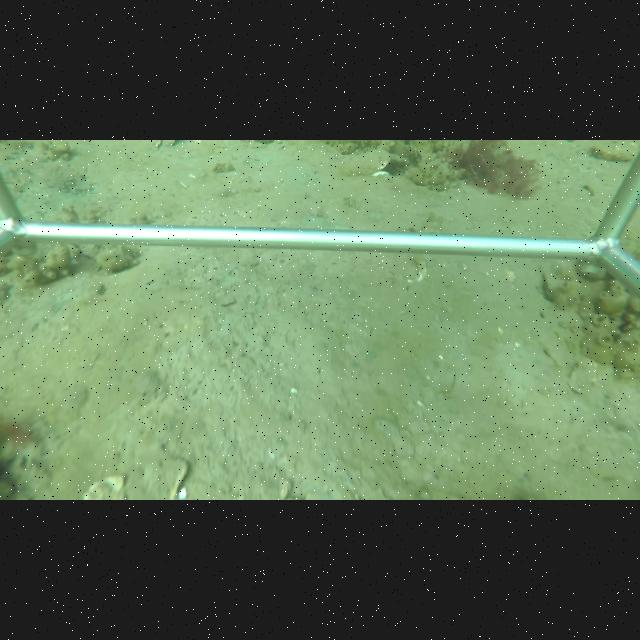Oyster-Closed: (342, 148, 392, 176)
